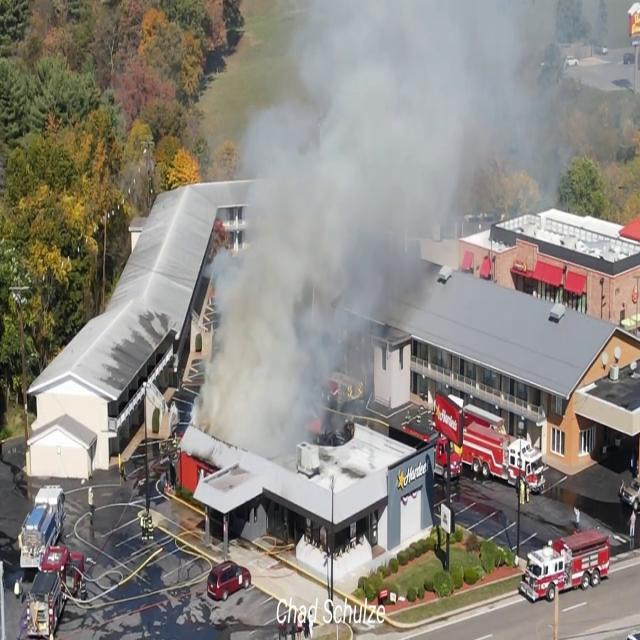Smoke: (183, 0, 561, 464)
